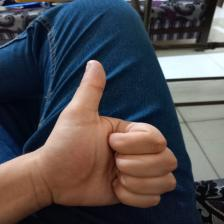five: (53, 59, 180, 212)
